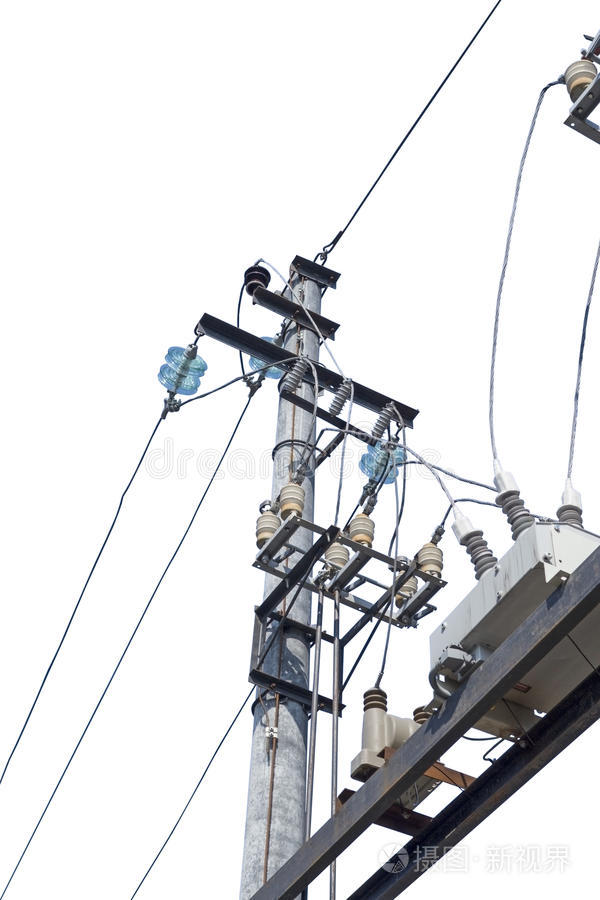insulator: (153, 346, 207, 392), (355, 437, 403, 482), (248, 337, 290, 379)
